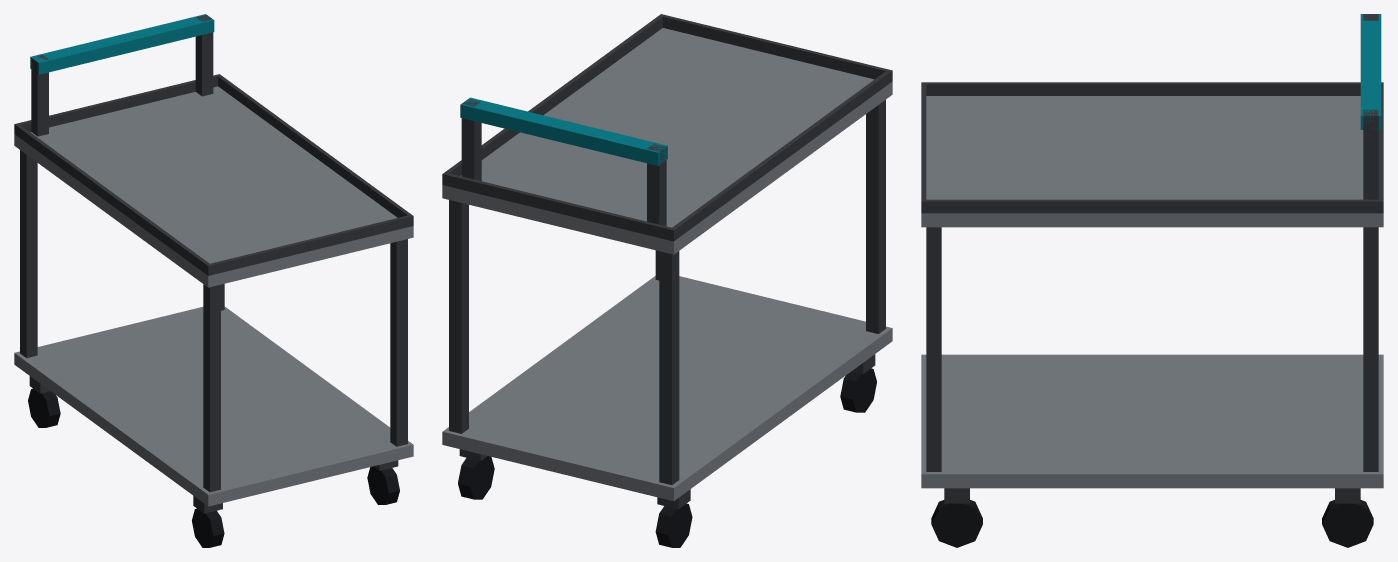
The model's file is Cart_Small.glb.
The picture shows the model from 3 angles, left to right: view 1: azimuth 30°, elevation 25°; view 2: azimuth 150°, elevation 25°; view 3: azimuth 270°, elevation 25°; orthographic projection. The views are drawn at different scales.
Visible parts, largest first — view 1: Cart_Small; view 2: Cart_Small; view 3: Cart_Small.
Boxes of the visible parts, x1,y1,x2,y2 form: Cart_Small: (14,14,413,547); Cart_Small: (442,14,892,547); Cart_Small: (921,14,1383,547).
Size of what is drawn, in the model's own units: 0.55 by 0.92 by 0.9.
